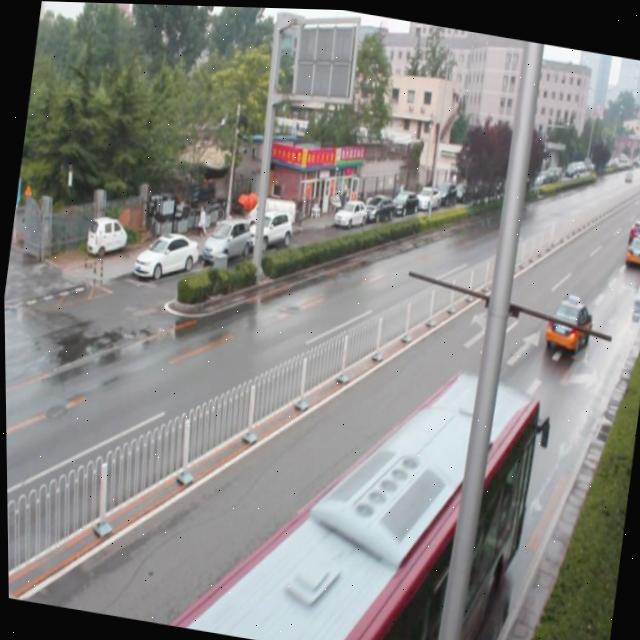car: (542, 285, 593, 348), (621, 225, 640, 262)
van: (146, 316, 555, 640)
